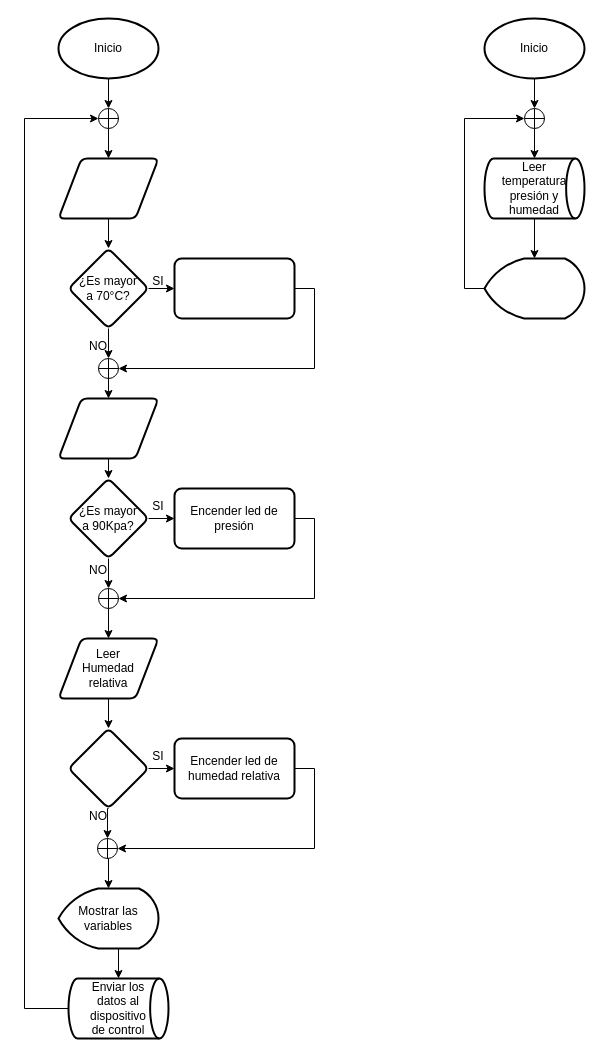
Image size: 603x1056. Some labels were removed from this diagram. The centre of each missing label's shape, as x and y in pixels:
Encender led de temperatura: (x=234, y=288)
Leer Presión: (x=108, y=428)
Leer Temperatura: (x=108, y=188)
Mostrar los valores en pantalla: (x=534, y=288)
¿Es mayor a 50%?: (x=108, y=768)
